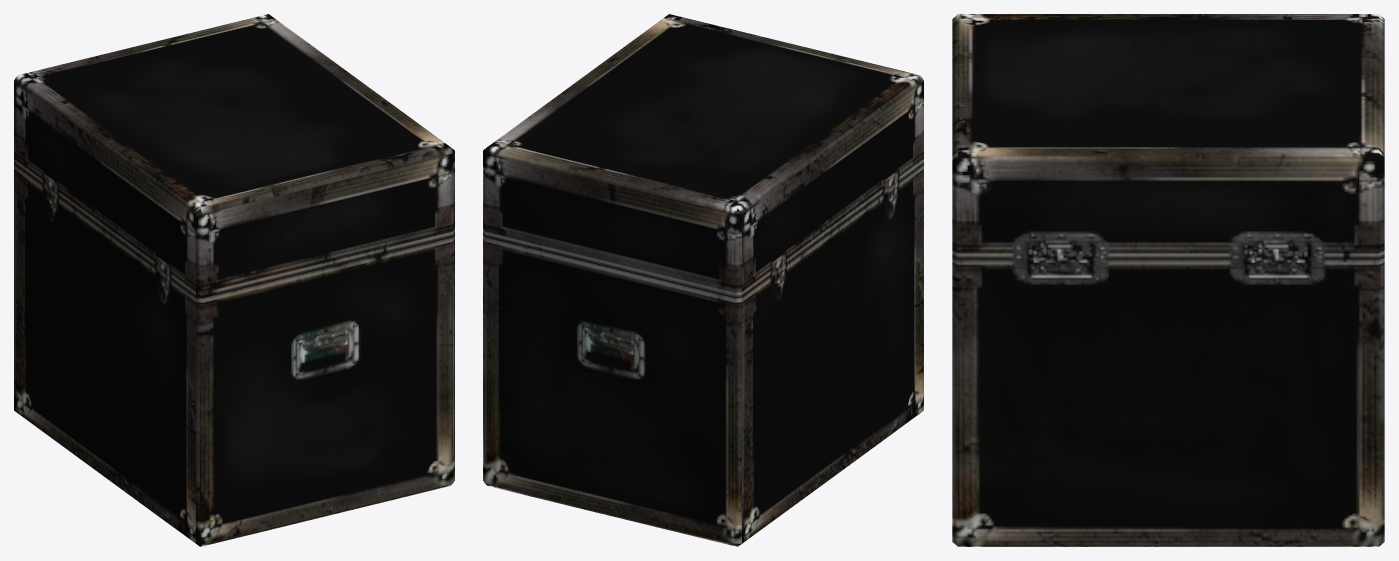
The model's file is box_crate02.dae.
The picture shows the model from 3 angles, left to right: view 1: azimuth 30°, elevation 25°; view 2: azimuth 150°, elevation 25°; view 3: azimuth 270°, elevation 25°; orthographic projection. The views are drawn at different scales.
Parts seen in each view (by area): view 1: box; view 2: box; view 3: box.
Boxes of the visible parts, bbox=[...] form: box: bbox=[14, 14, 454, 546]; box: bbox=[483, 14, 923, 546]; box: bbox=[952, 14, 1384, 546].
Size of what is drawn, in the model's own units: 0.8 by 1 by 1.
